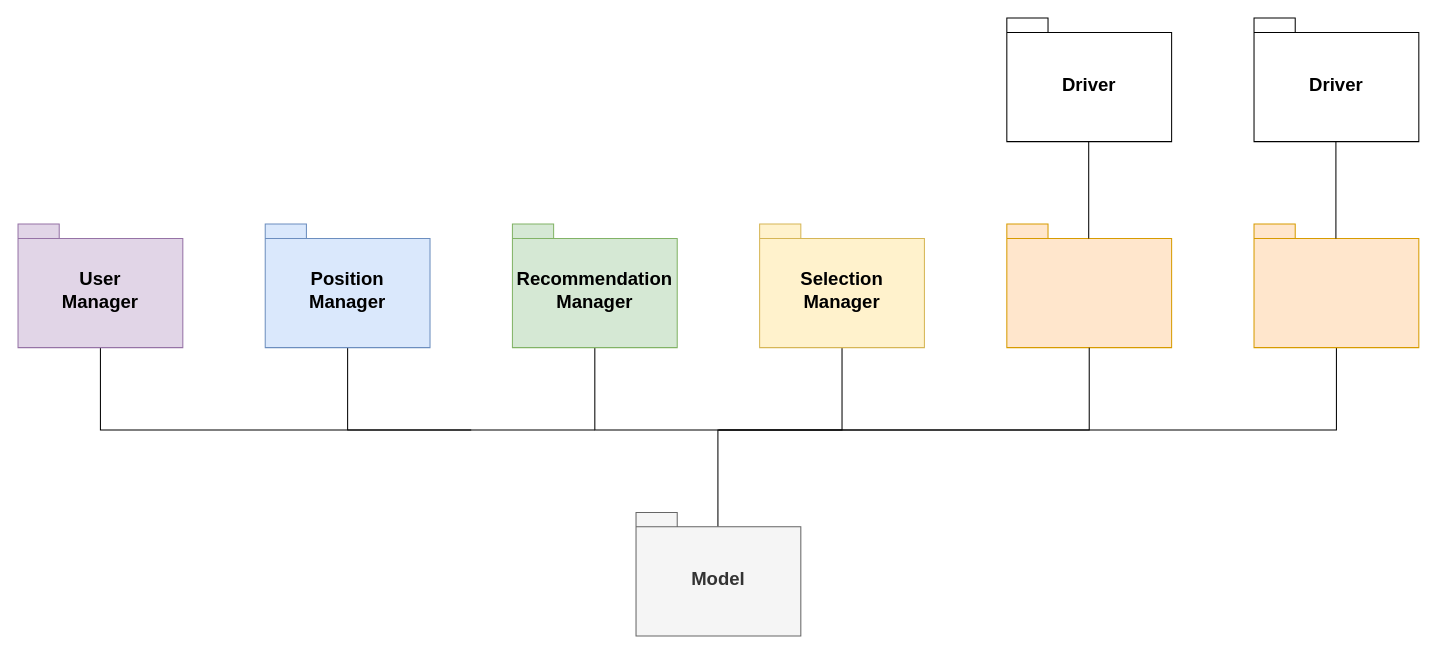
The diagram is 1437 pixels wide and 654 high, and some of its shapes have lost their labels. Each missing label, with the box of its shape:
Comment Submanager: (1253, 223, 1419, 348)
Progress Submanager: (1006, 223, 1172, 348)
